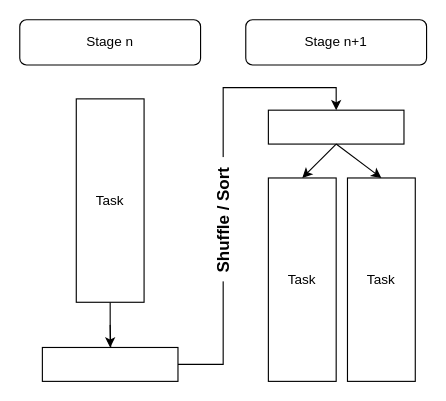
This 446x401 diagram has some shape labels left out. Each missing label, with the centre of its shape:
Read Exchange: pixel 335 126
Write Exchange: pixel 109 363
